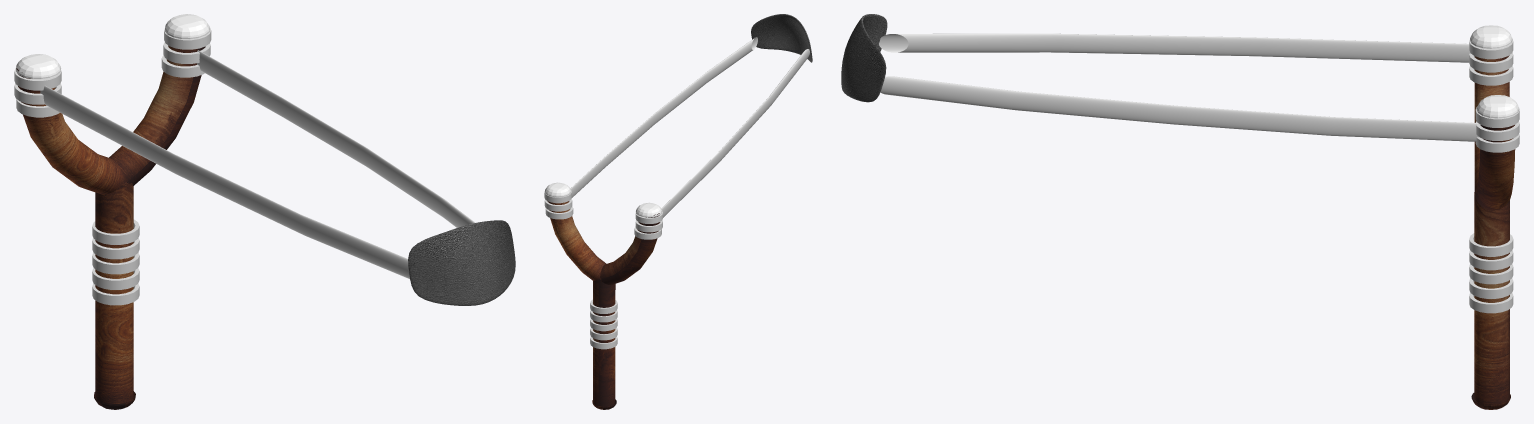
Rendered from sling.fbx.
3 renders of one model, left to right at view 1: azimuth 30°, elevation 25°; view 2: azimuth 150°, elevation 25°; view 3: azimuth 270°, elevation 25°, orthographic. The views are drawn at different scales.
Visible parts, largest first — view 1: Cylinder005, Sling, Cylinder002, Cylinder003, Cylinder004, Object001, Object002, Tube007, Tube011, Tube009, Tube010, Tube008 (+5 smaller); view 2: Cylinder005, Cylinder002, Sling, Cylinder004, Cylinder003, Object002, Object001; view 3: Cylinder005, Cylinder002, Sling, Cylinder004, Cylinder003, Object002, Object001.
Part boxes in pixels (x1,y1,x2,y2): Cylinder005: (40, 50, 475, 278); Sling: (408, 220, 515, 305); Cylinder002: (95, 182, 133, 403); Cylinder003: (16, 65, 126, 194); Cylinder004: (109, 45, 205, 185); Object001: (16, 54, 61, 79); Object002: (165, 14, 209, 39); Tube007: (92, 219, 139, 244); Tube011: (92, 283, 139, 305); Tube009: (92, 252, 139, 274); Tube010: (92, 268, 139, 289); Tube008: (92, 238, 139, 259); Cylinder005: (570, 37, 809, 217); Cylinder002: (593, 279, 615, 406); Sling: (751, 14, 812, 62); Cylinder004: (547, 201, 606, 282); Cylinder003: (600, 213, 660, 284); Object002: (545, 182, 571, 197); Object001: (636, 202, 661, 217); Cylinder005: (879, 33, 1480, 141); Cylinder002: (1474, 192, 1509, 404); Sling: (841, 14, 887, 102); Cylinder004: (1475, 125, 1515, 210); Cylinder003: (1474, 55, 1509, 194); Object002: (1476, 95, 1519, 118); Object001: (1470, 25, 1512, 49).
Size of the model in its own units: 21.15 by 44.1 by 68.76.
Materials: 6 (5 with a texture image).
